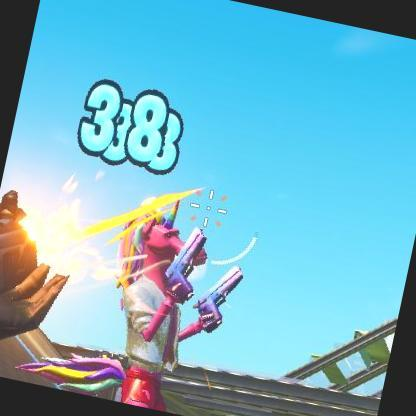person: (97, 206, 219, 414)
